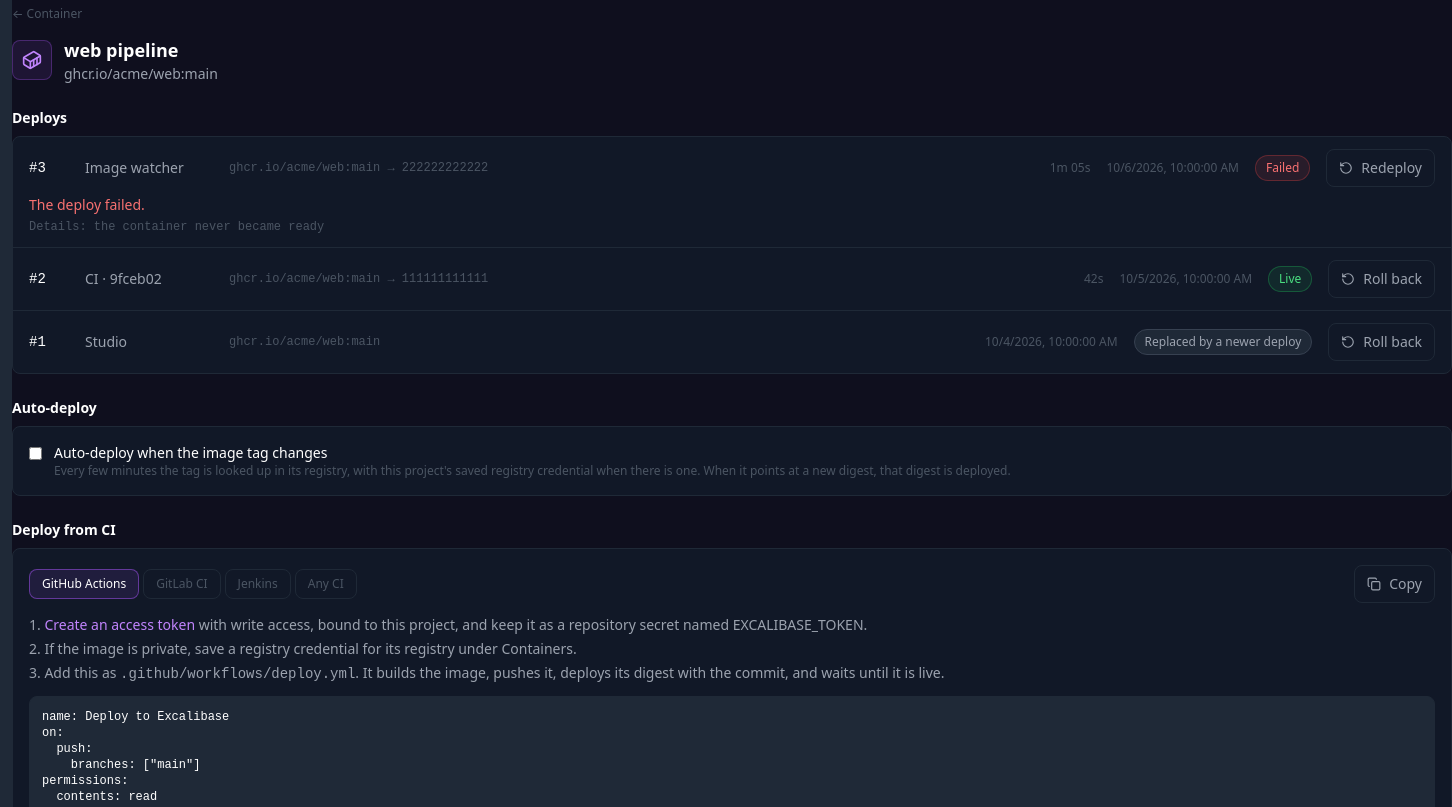
Test case: ContainerPipelinePage › the curl setup is one tab away, filled in for this app
What coordinates should you click on to do the following:
click the tab "Any CI"
I would click on:
 (326, 584)
Its box is [295, 569, 357, 599].
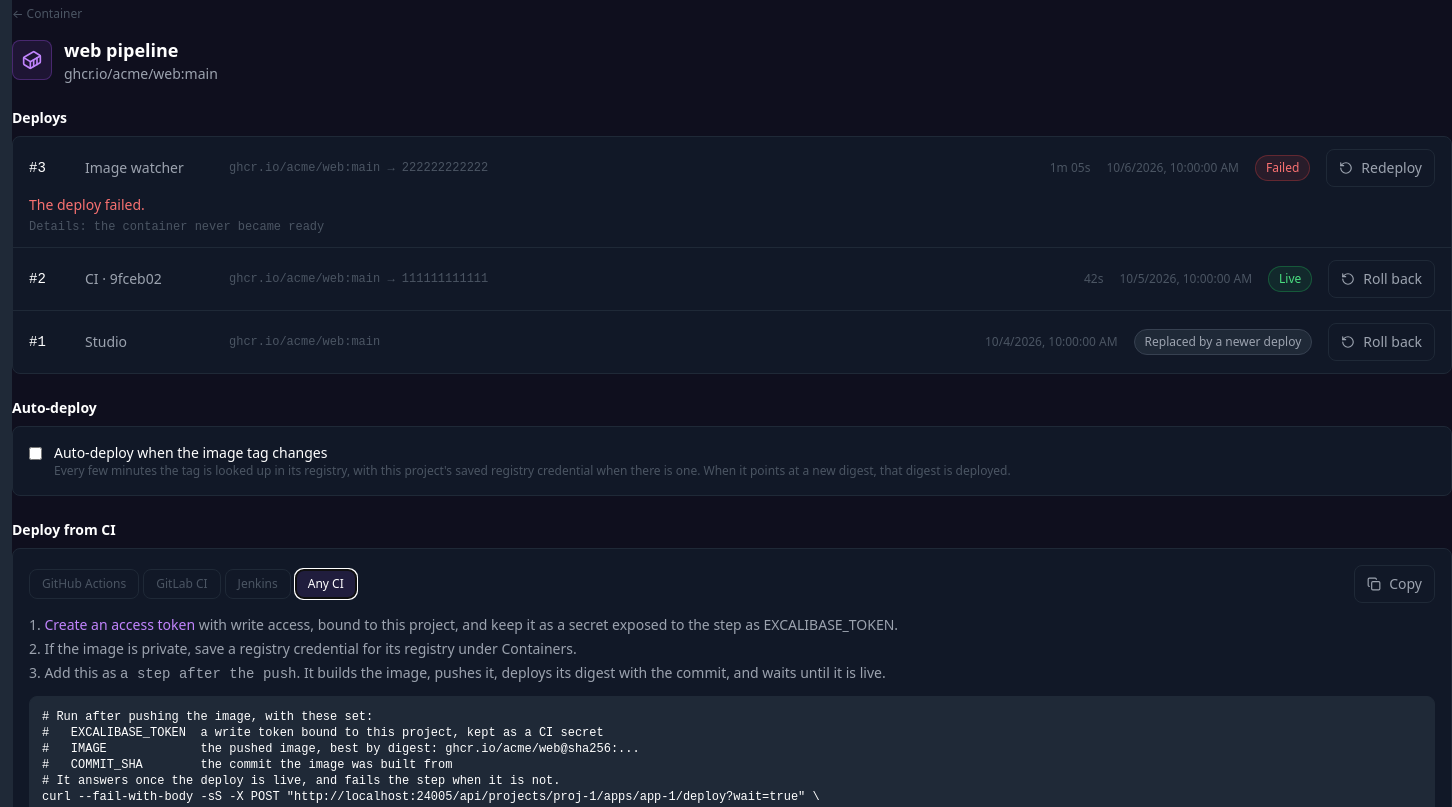
Check: the text with test id "ci-secret" shows "secret", box [557, 615, 894, 634]
Check: the text with test id "ci-file" reads "a step after the push", box [120, 666, 296, 682]
